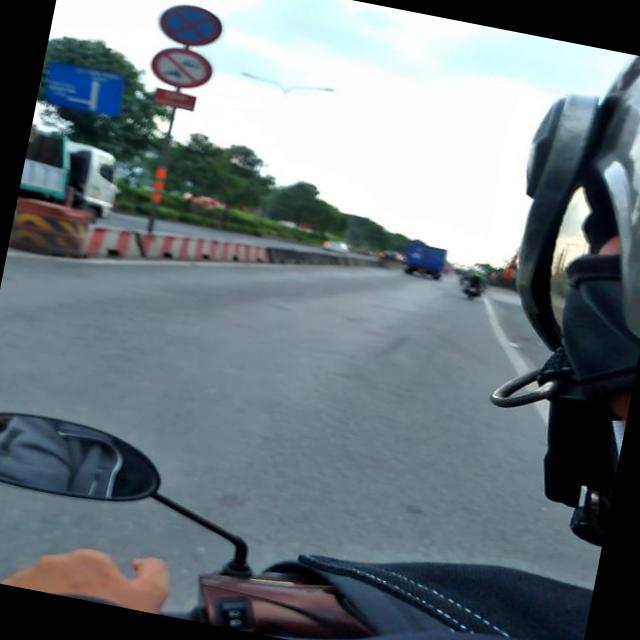P-105: (146, 40, 219, 96)
P-130: (154, 0, 227, 51)
